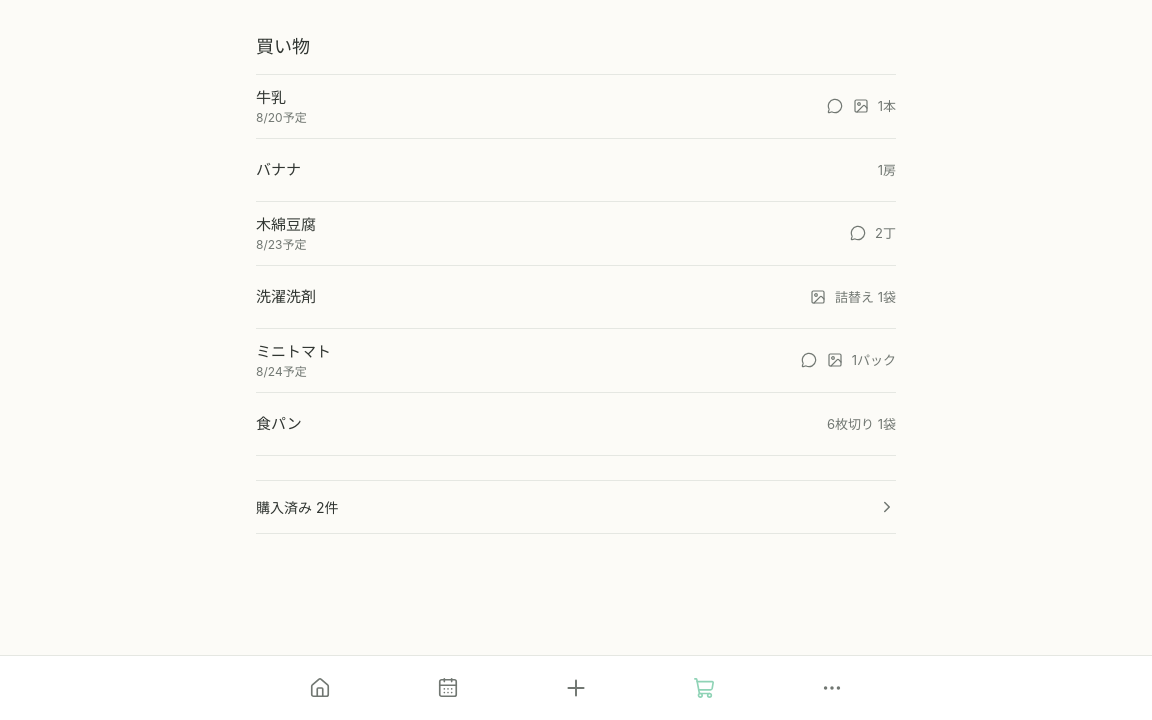
it: ShoppingPage › uses the actual pointer swipe path to reveal 編集 only
Press the mouse on the element showing "牛乳 8/20予定 1本" at (576, 107), box [256,75,896,139]
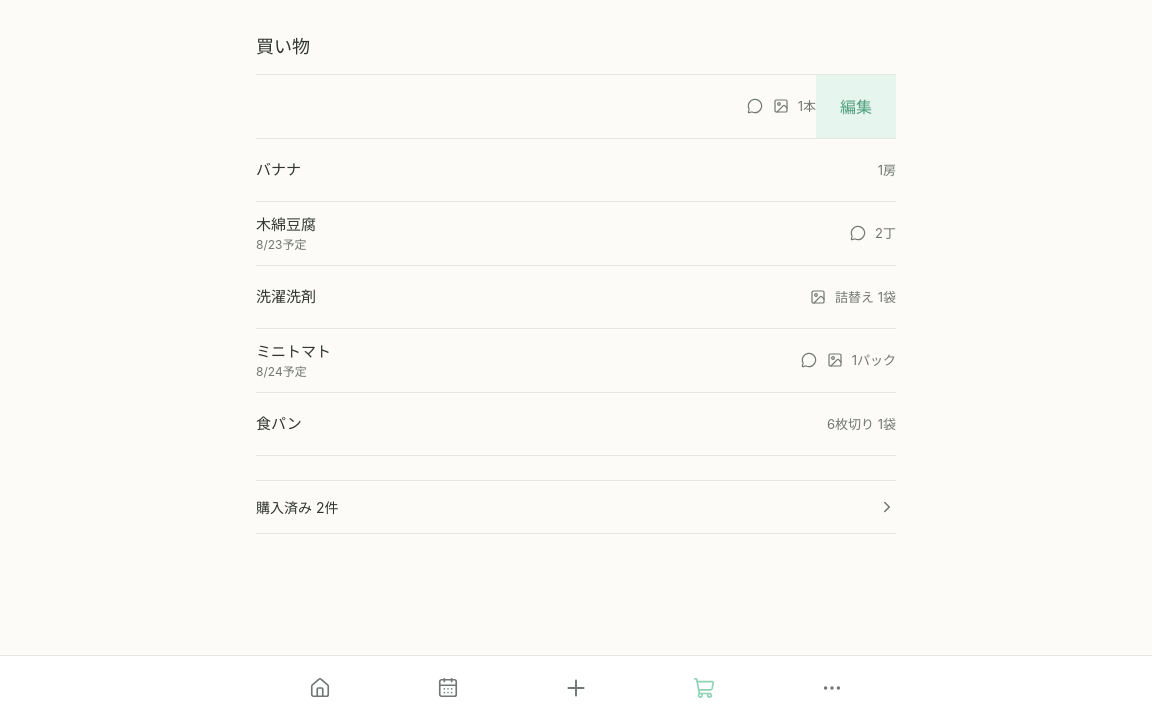
Result: the button "編集" is shown at [816,75,896,138]
